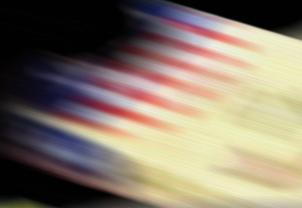sky flakes: (1, 1, 302, 208)
